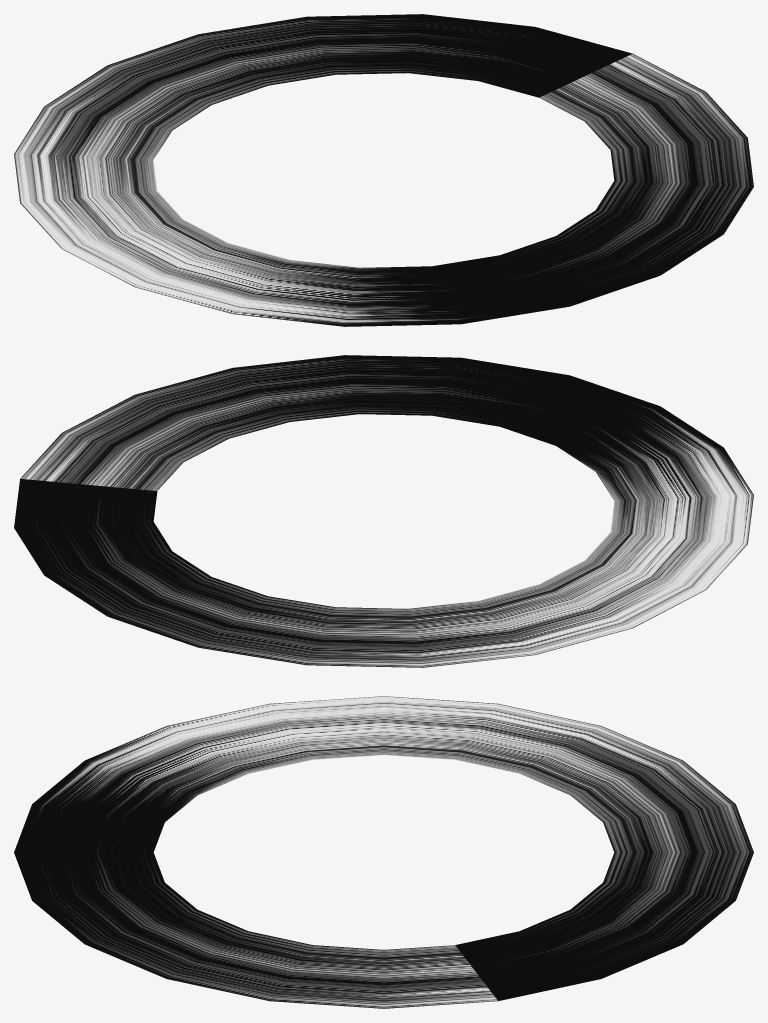
The model's file is WeaponTrail.fbx.
3 renders of one model, top to bottom at view 1: azimuth 30°, elevation 25°; view 2: azimuth 150°, elevation 25°; view 3: azimuth 270°, elevation 25°, orthographic.
Visible parts, largest first — view 1: pCylinder1; view 2: pCylinder1; view 3: pCylinder1.
Part boxes in pixels (x1,y1,x2,y2): pCylinder1: [14, 14, 753, 326]; pCylinder1: [14, 355, 753, 667]; pCylinder1: [14, 696, 753, 1008].
Size of the model in its own units: 200 by 0.000596 by 200.
1 material, 1 textured.
